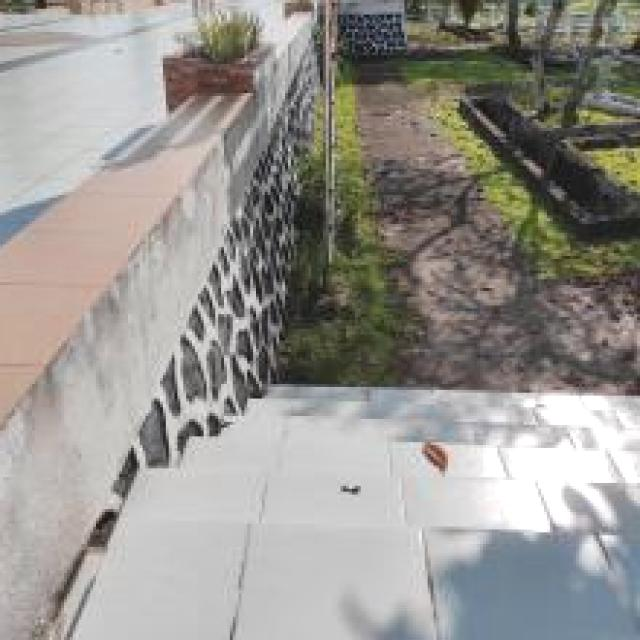downstair: (140, 347, 640, 594)
